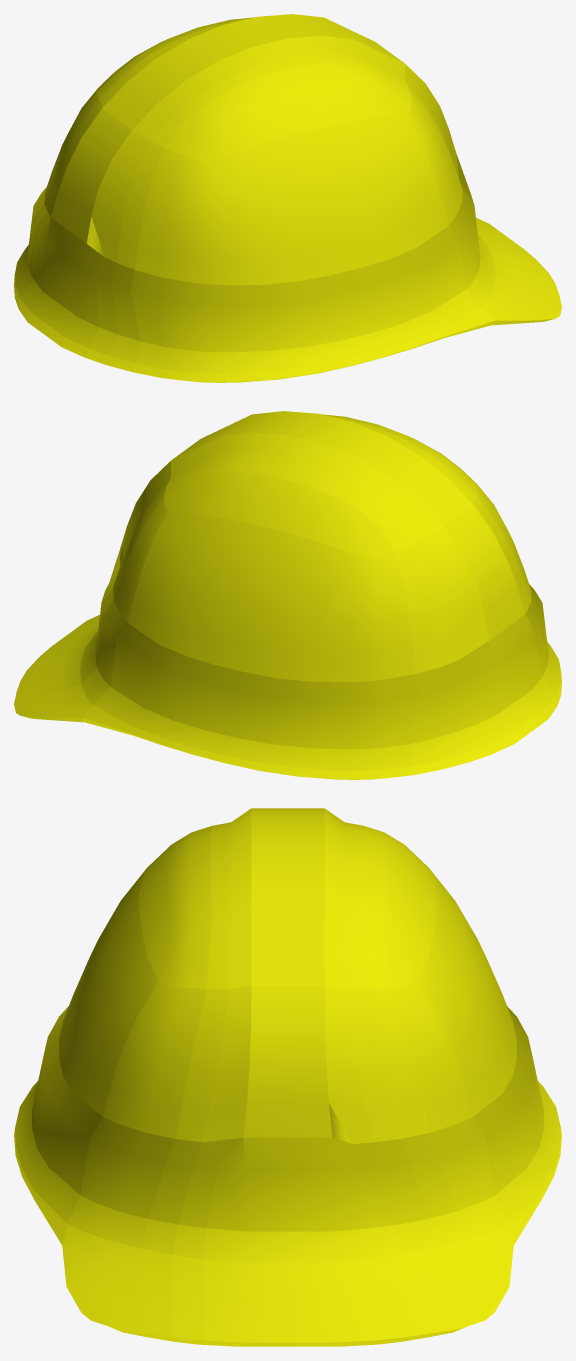
The model's file is Hat.fbx.
The picture shows the model from 3 angles, top to bottom: view 1: azimuth 30°, elevation 25°; view 2: azimuth 150°, elevation 25°; view 3: azimuth 270°, elevation 25°; orthographic projection. The views are drawn at different scales.
Parts seen in each view (by area): view 1: hat; view 2: hat; view 3: hat.
Boxes of the visible parts, x1,y1,x2,y2 form: hat: (14,14,561,382); hat: (14,411,561,779); hat: (14,808,561,1346).
Size of the model in its own units: 0.4379 by 0.2534 by 0.3544.
